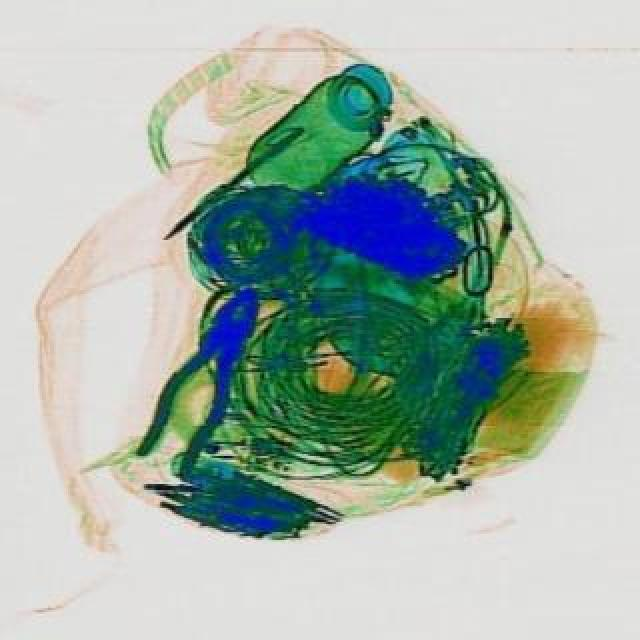wrench: (124, 274, 280, 482)
